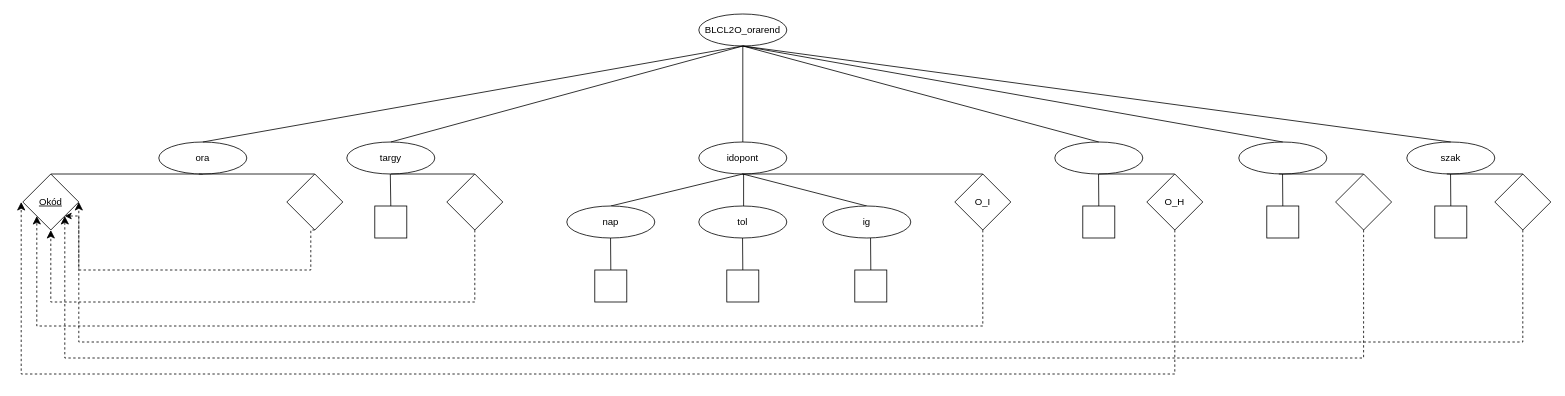
Image size: 1565x396. Some labels were removed from this diagram. The shapes that lost their labels are listed below. From the top down, each one's centre as x and y in pixels, then its label:
the point at 1098,157: helyszin
the point at 1282,157: oktato
the point at 314,201: O_T_O
the point at 474,201: O_T
the point at 1363,201: O_O
the point at 1522,201: O_SZ
